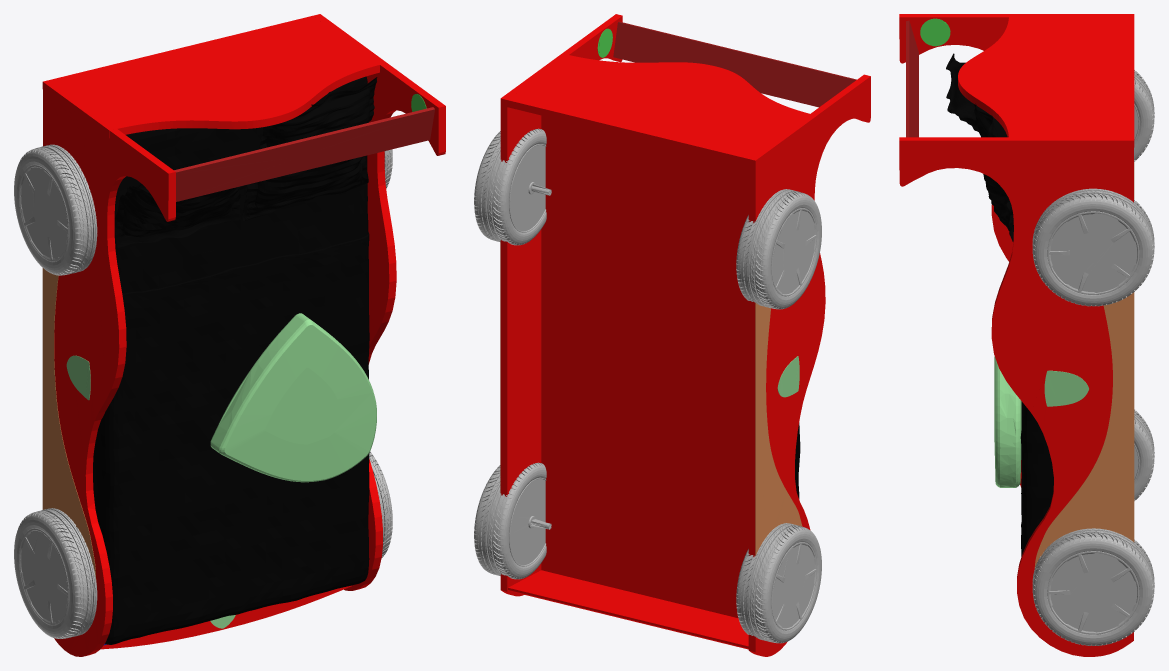
The model's file is bed.obj.
3 views of the same model, side by side, from view 1: azimuth 30°, elevation 25°; view 2: azimuth 150°, elevation 25°; view 3: azimuth 270°, elevation 25° (orthographic). The views are drawn at different scales.
Visible parts, largest first — view 1: Object.1; view 2: Object.1; view 3: Object.1.
Boxes of the visible parts, box(x1,y1,x2,y2) form: Object.1: box(14, 14, 445, 656); Object.1: box(474, 14, 870, 656); Object.1: box(899, 14, 1154, 656).
Bounding box in the file's own units: 214 × 354 × 158.
